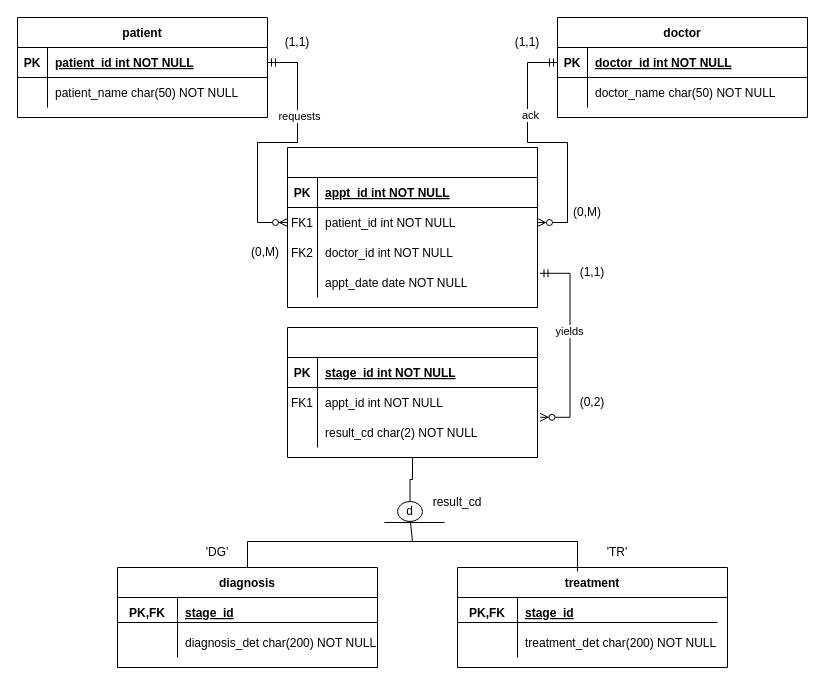
Some shapes in this 825 by 685 pixel diagram are drawn without their labels. The shapes that lost their labels are listed below. From the top down, each one's box as (x1, y1, x2, y2) in pixels, then its label:
(286, 146, 538, 308): appointment
(286, 326, 538, 458): appt_stage
